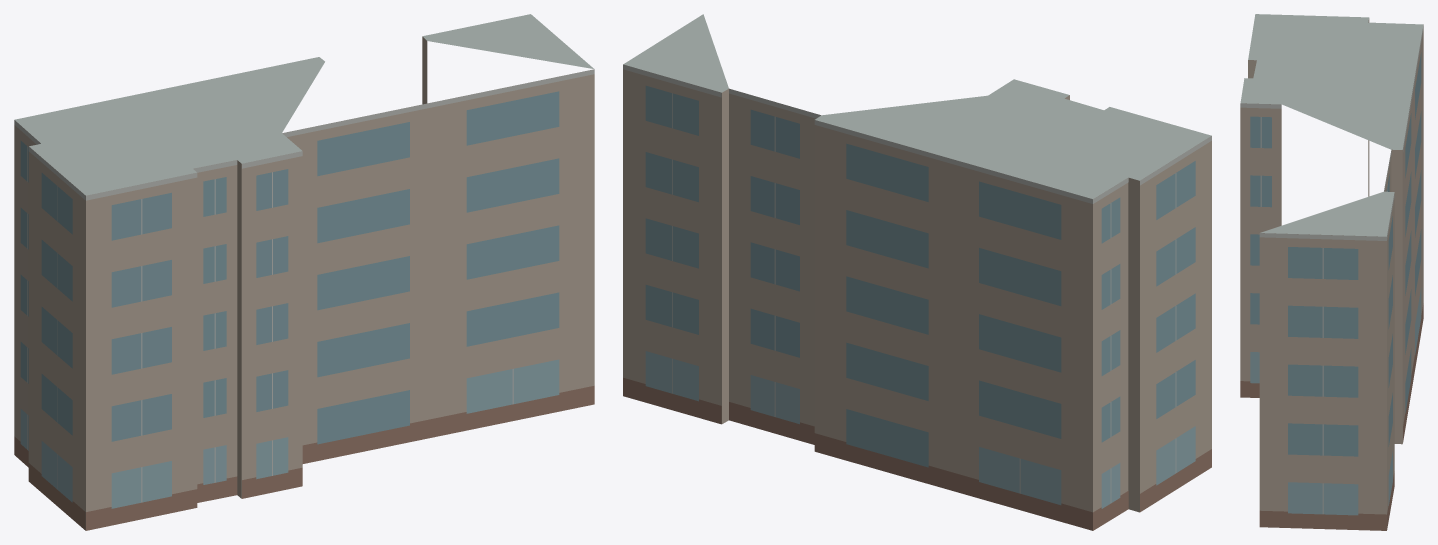
File: survey-upis-32657052.glb
3 views of the same model, side by side, from view 1: azimuth 30°, elevation 25°; view 2: azimuth 150°, elevation 25°; view 3: azimuth 270°, elevation 25° (orthographic). The views are drawn at different scales.
Visible parts, largest first — view 1: survey-upis-32657052.tmp; view 2: survey-upis-32657052.tmp; view 3: survey-upis-32657052.tmp.
Boxes of the visible parts, bbox=[...] form: survey-upis-32657052.tmp: bbox=[14, 14, 594, 530]; survey-upis-32657052.tmp: bbox=[623, 14, 1211, 530]; survey-upis-32657052.tmp: bbox=[1240, 14, 1423, 530].
Size of the model in its own units: 26.72 by 16.45 by 9.29.
